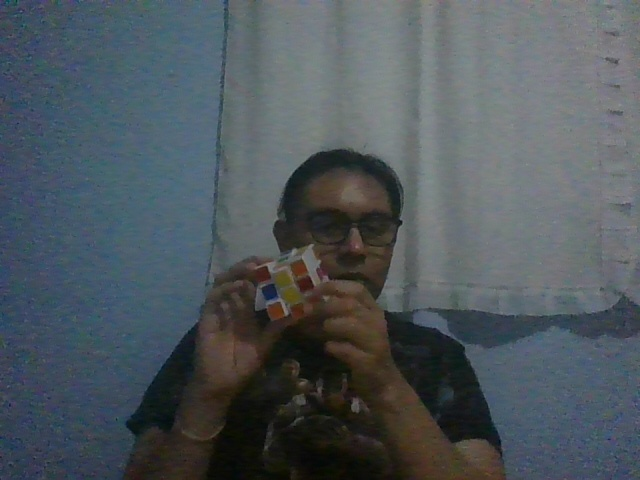rubik: (252, 244, 329, 322)
